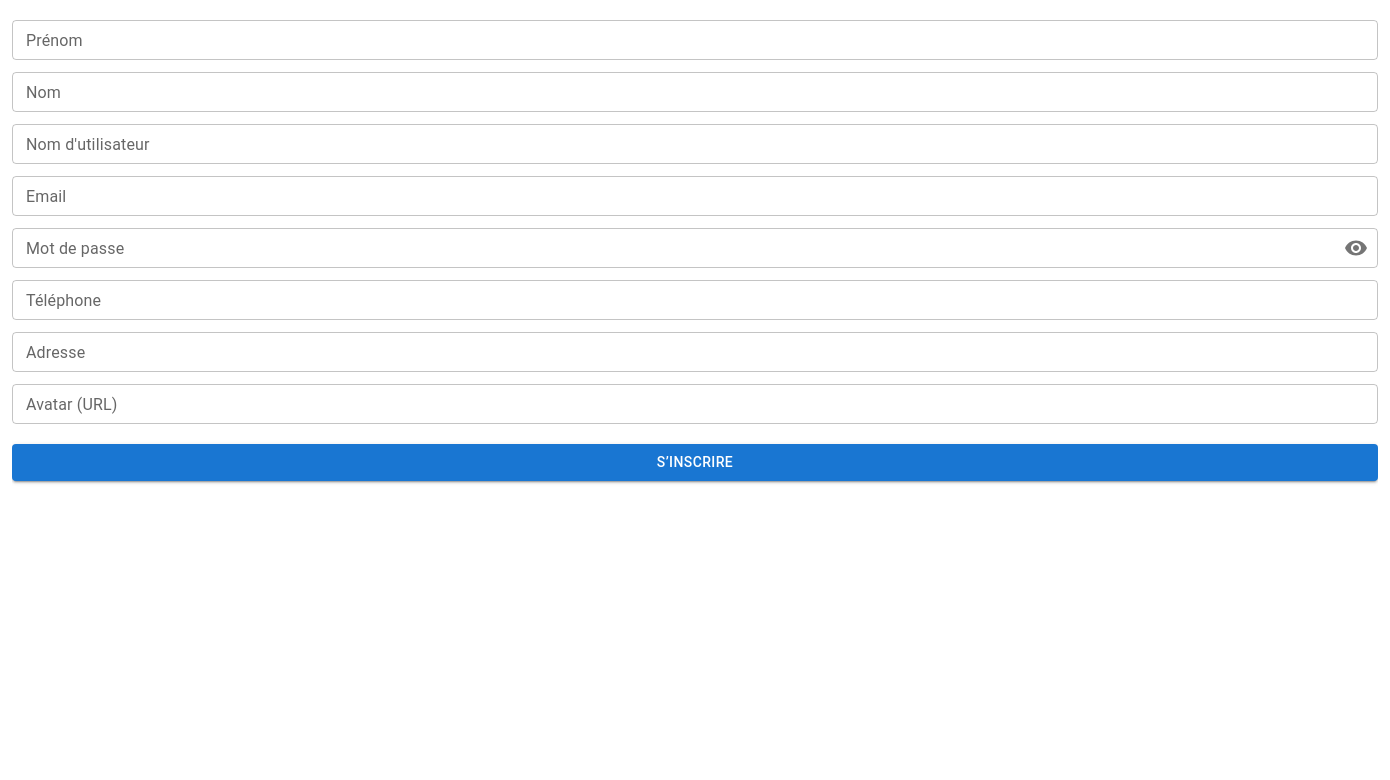
Test: SignupForm › displays errors if fields are empty or invalid
Type "invalid-url" into the field labelled "Avatar (URL)" at (695, 404), box top-left (12, 384), bottom-right (1378, 424)
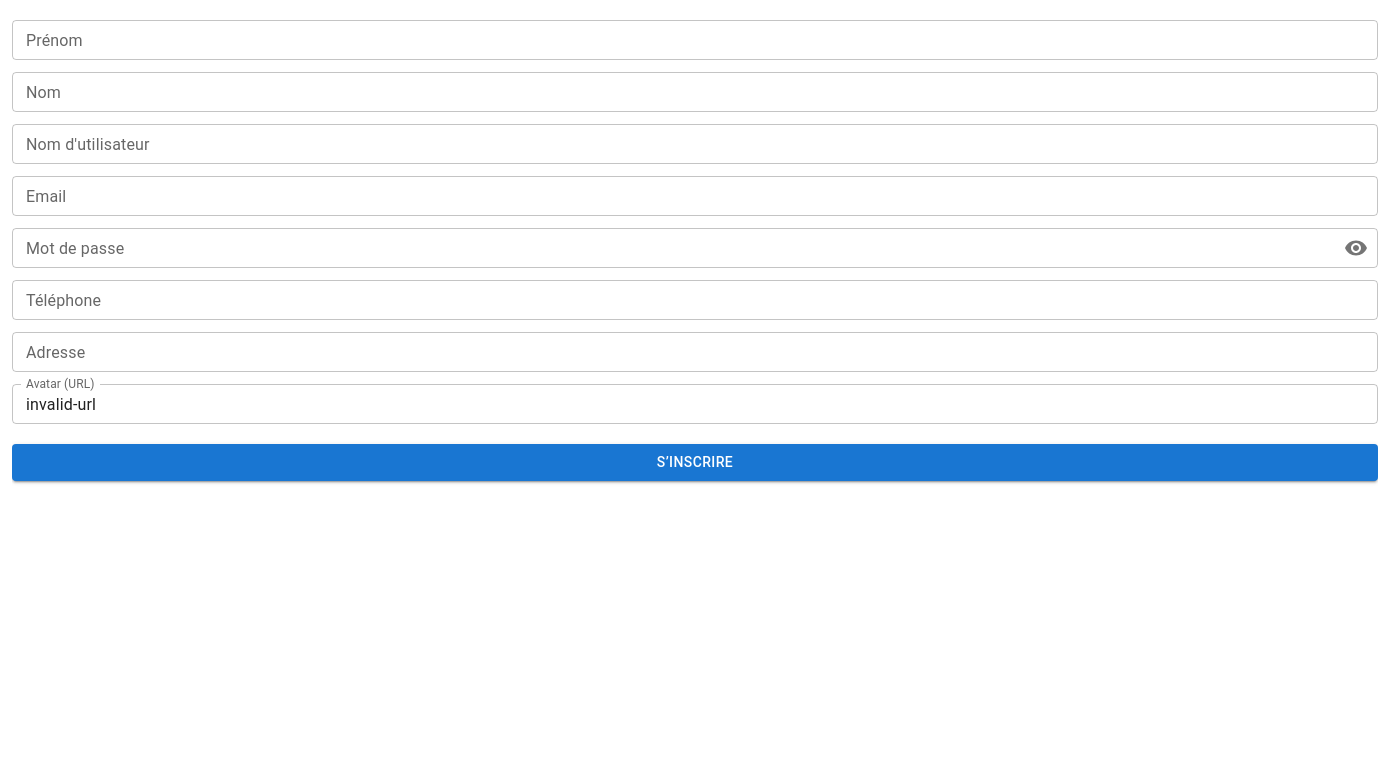
Click the button "S’inscrire" at (695, 462), box top-left (12, 444), bottom-right (1378, 480)
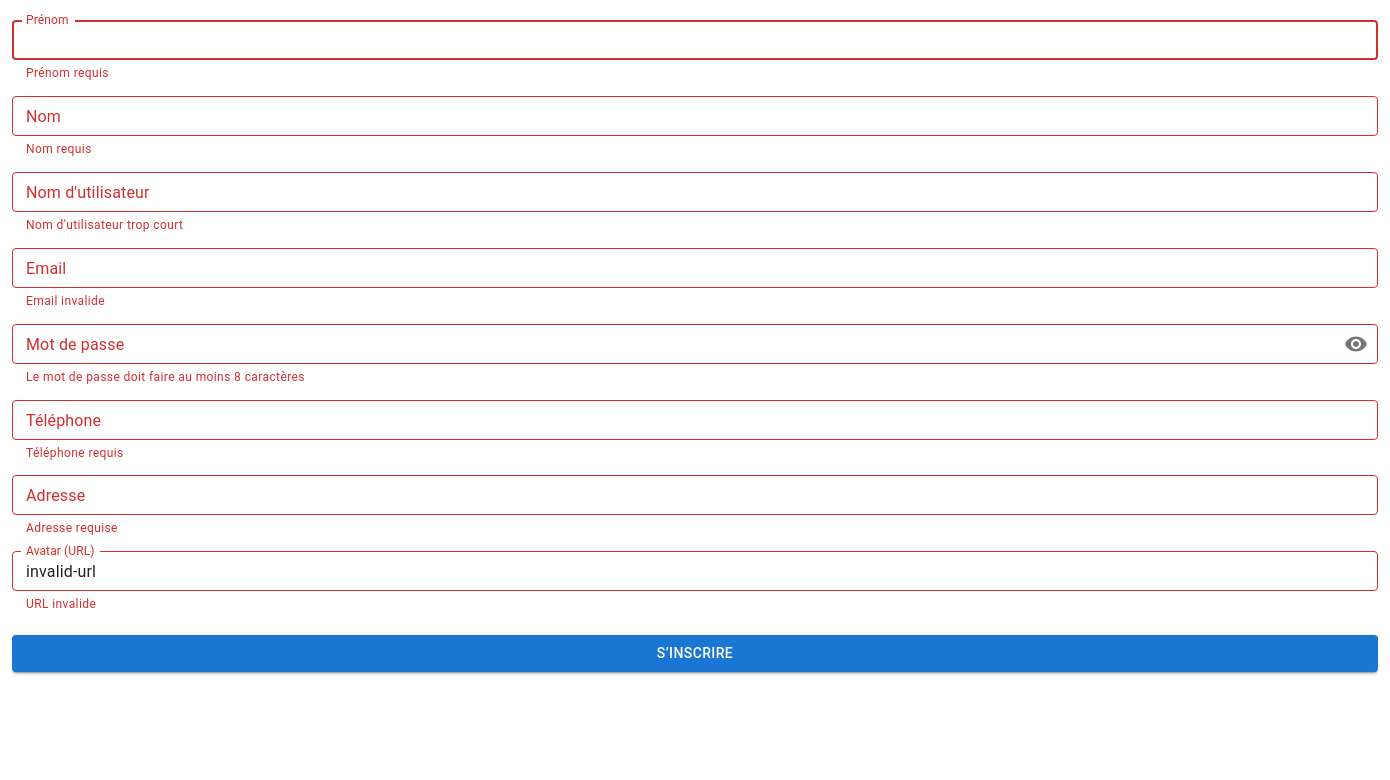
Expected: the text "Prénom requis" is shown, top-left (26, 66), bottom-right (109, 80)
Expected: the text "Nom requis" is shown, top-left (26, 142), bottom-right (92, 156)
Expected: the text "Nom d'utilisateur trop court" is shown, top-left (26, 218), bottom-right (183, 232)
